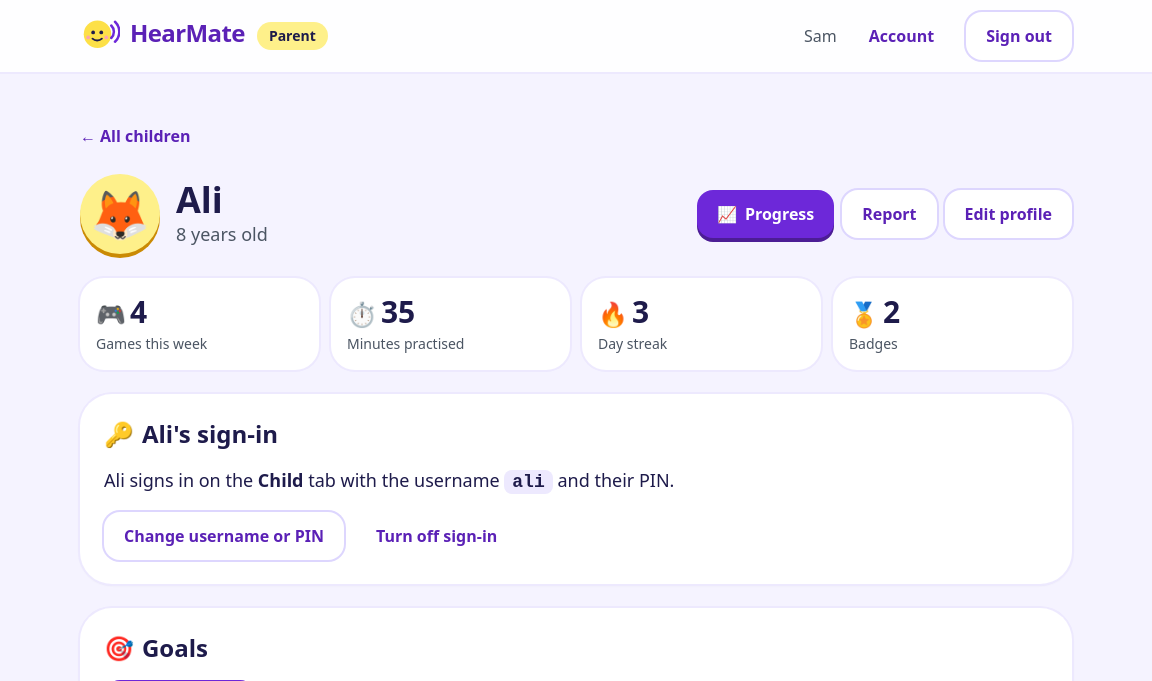
Child's sign-in › turns sign-in off after confirming
The image size is (1152, 681).
Click the button "Turn off sign-in": (437, 536) [356,512,517,560]
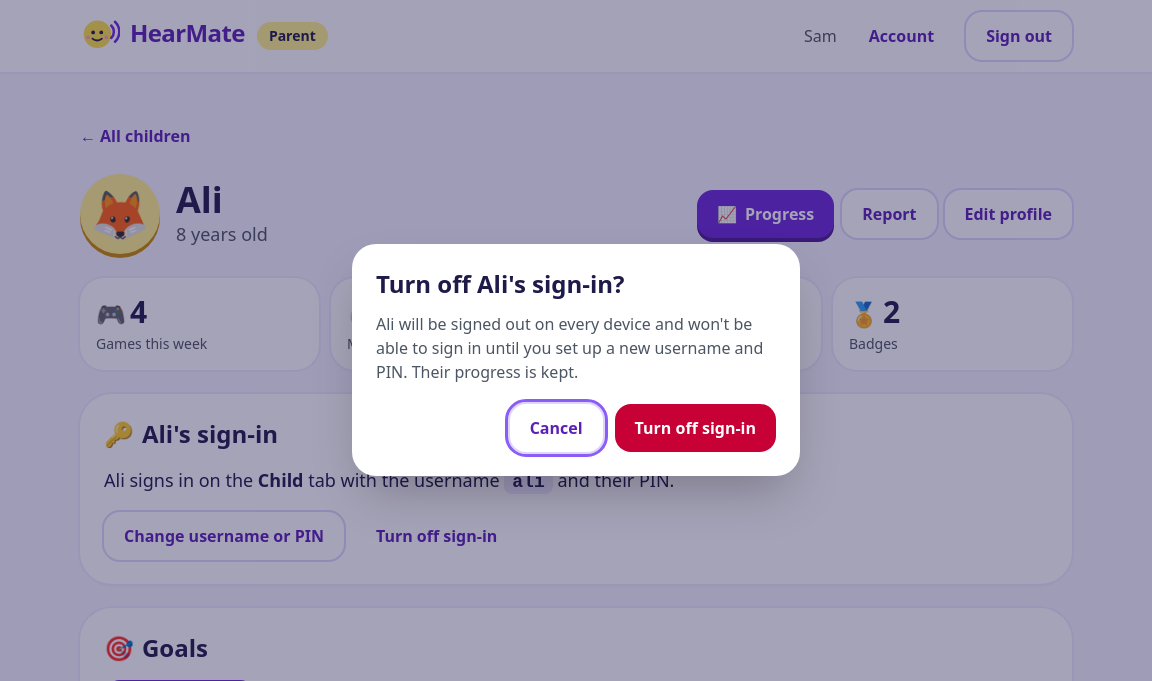
Click the button "Turn off sign-in": (695, 428) [615,404,776,452]
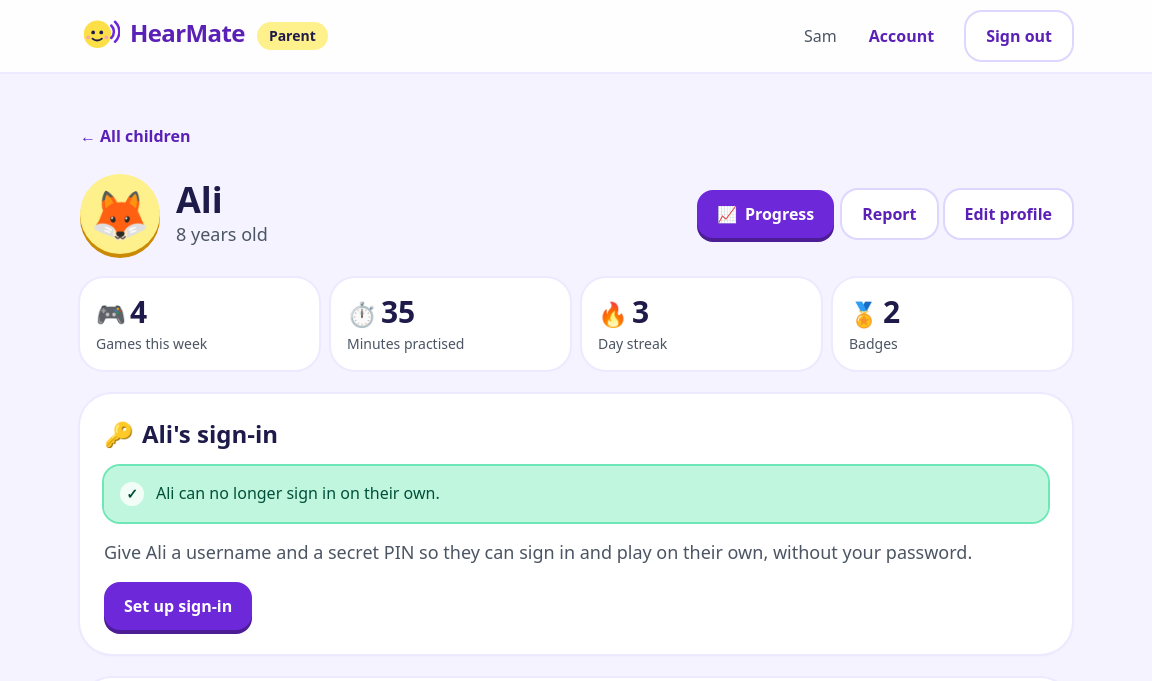
Expected: the text "Ali can no longer sign in on their own." is shown, [156,482,440,504]
Expected: the button "Set up sign-in" is shown, [104,582,252,630]
